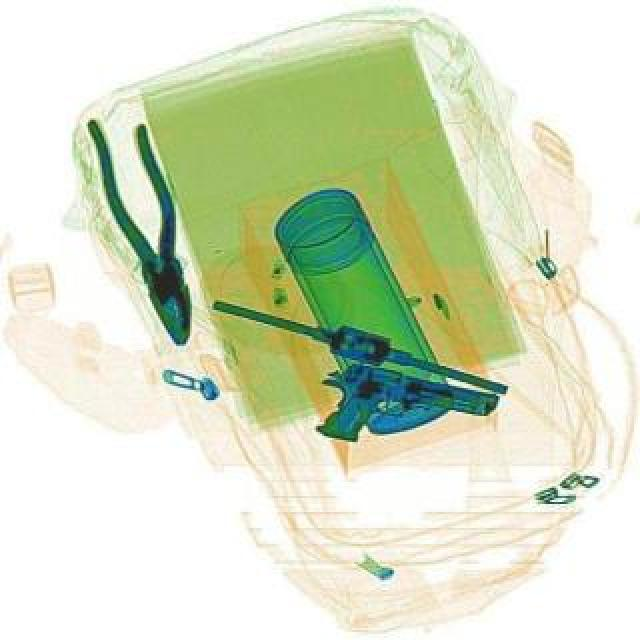gun: (308, 356, 500, 472)
wrench: (84, 104, 214, 352)
